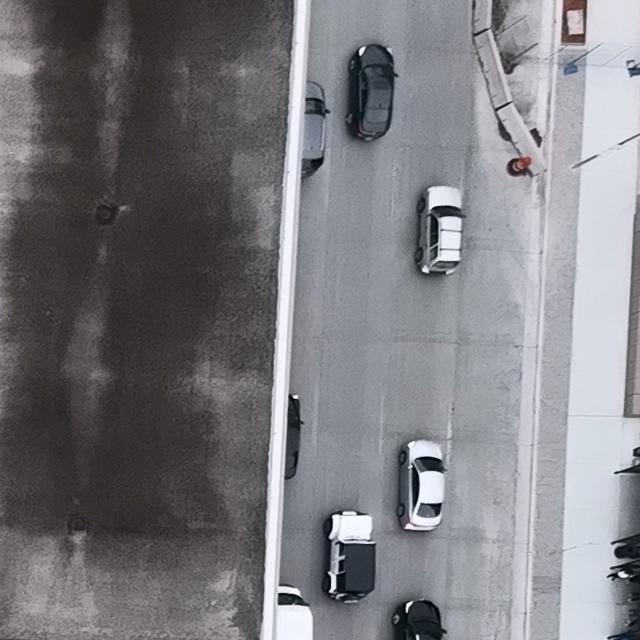car: (344, 43, 399, 142), (321, 509, 377, 604), (397, 438, 448, 532), (414, 185, 466, 275), (302, 80, 331, 178), (391, 599, 447, 640), (275, 585, 313, 640), (284, 394, 304, 479)
